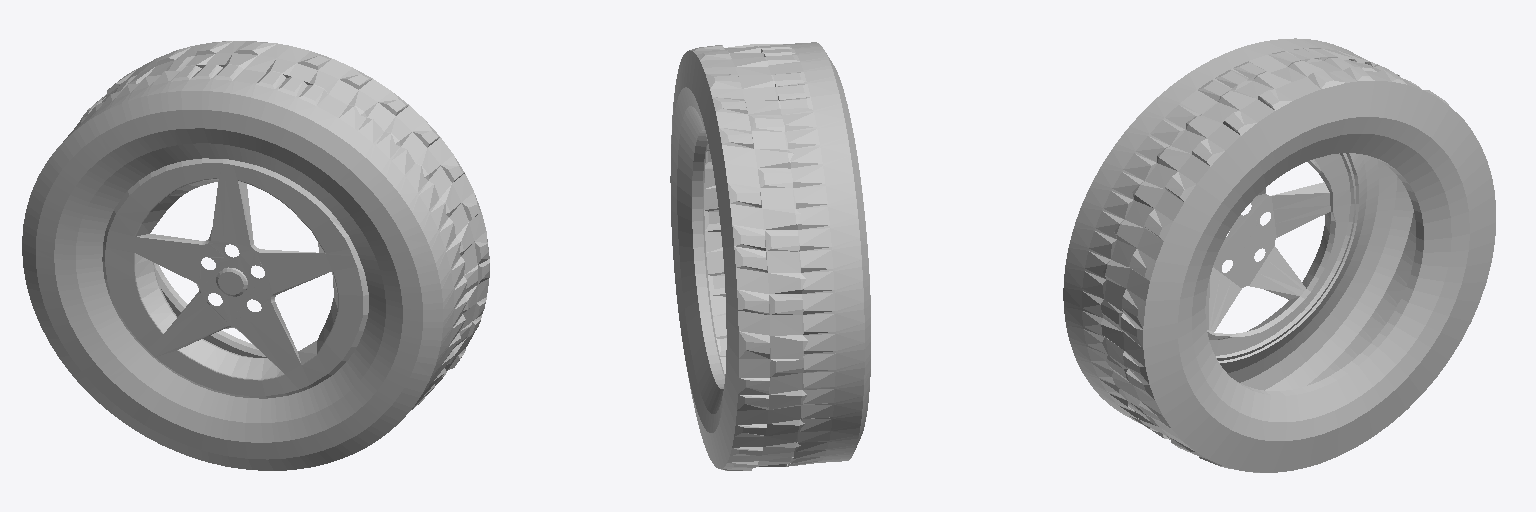
Rendered from llantaDerT.obj.
3 renders of one model, left to right at view 1: azimuth 30°, elevation 25°; view 2: azimuth 150°, elevation 25°; view 3: azimuth 270°, elevation 25°, orthographic.
Parts seen in each view (by area): view 1: polySurface280; view 2: polySurface280; view 3: polySurface280.
Boxes of the visible parts, x1=… form: polySurface280: x1=22, y1=41, x2=489, y2=470; polySurface280: x1=670, y1=42, x2=870, y2=470; polySurface280: x1=1063, y1=38, x2=1495, y2=472.
Size of the model in its own units: 0.3339 by 0.3665 by 0.3784.